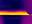Hotspot: (0, 11, 29, 15)
